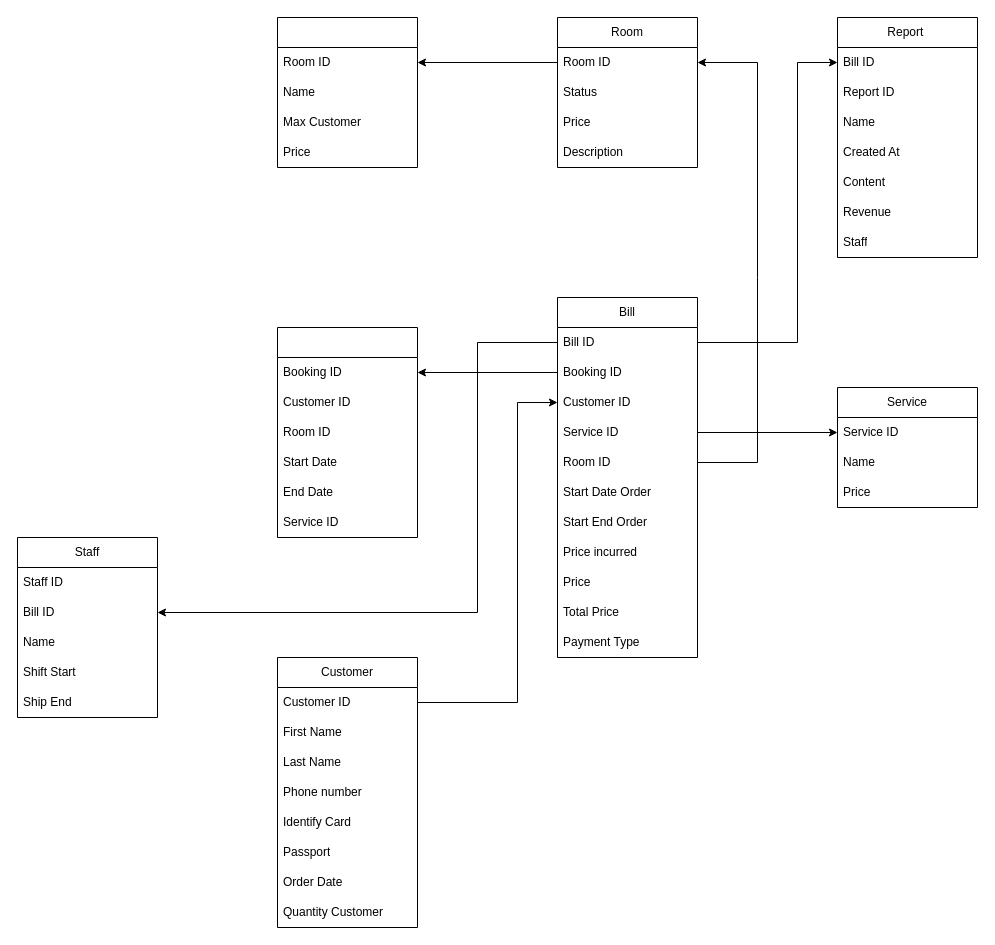
Some shapes in this 995 by 945 pixel diagram are drawn without their labels. Here are the shapes that lost their labels. From the top down, the box of each, then its label:
(276, 16, 418, 168): Room Type
(276, 326, 418, 538): Booking Room
